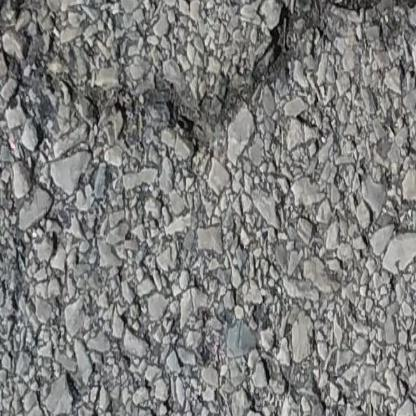Cracks: (48, 0, 416, 144)
